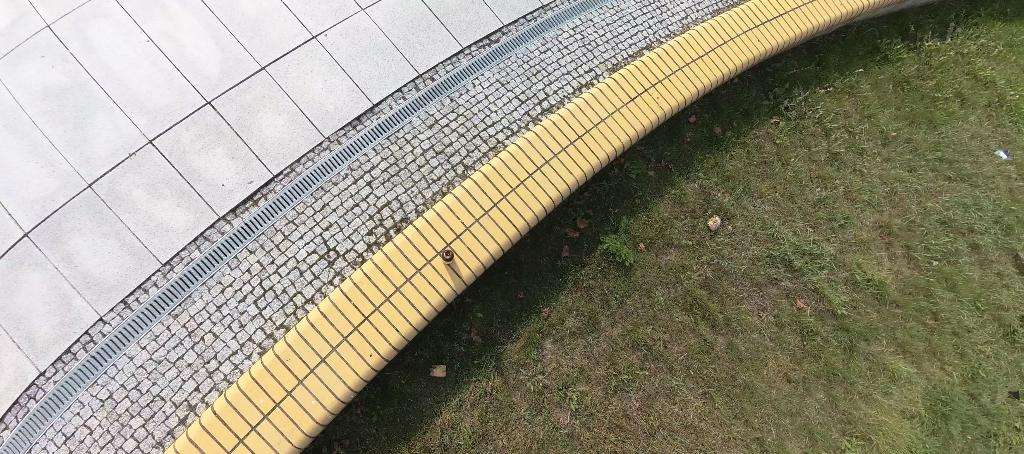garbage: (706, 213, 722, 231), (993, 148, 1008, 159), (441, 251, 453, 261)
